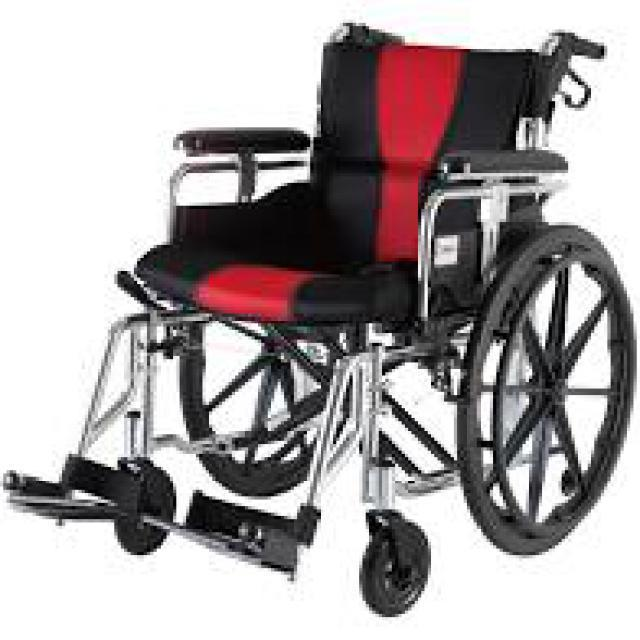wheelchairs: (24, 20, 629, 615)
